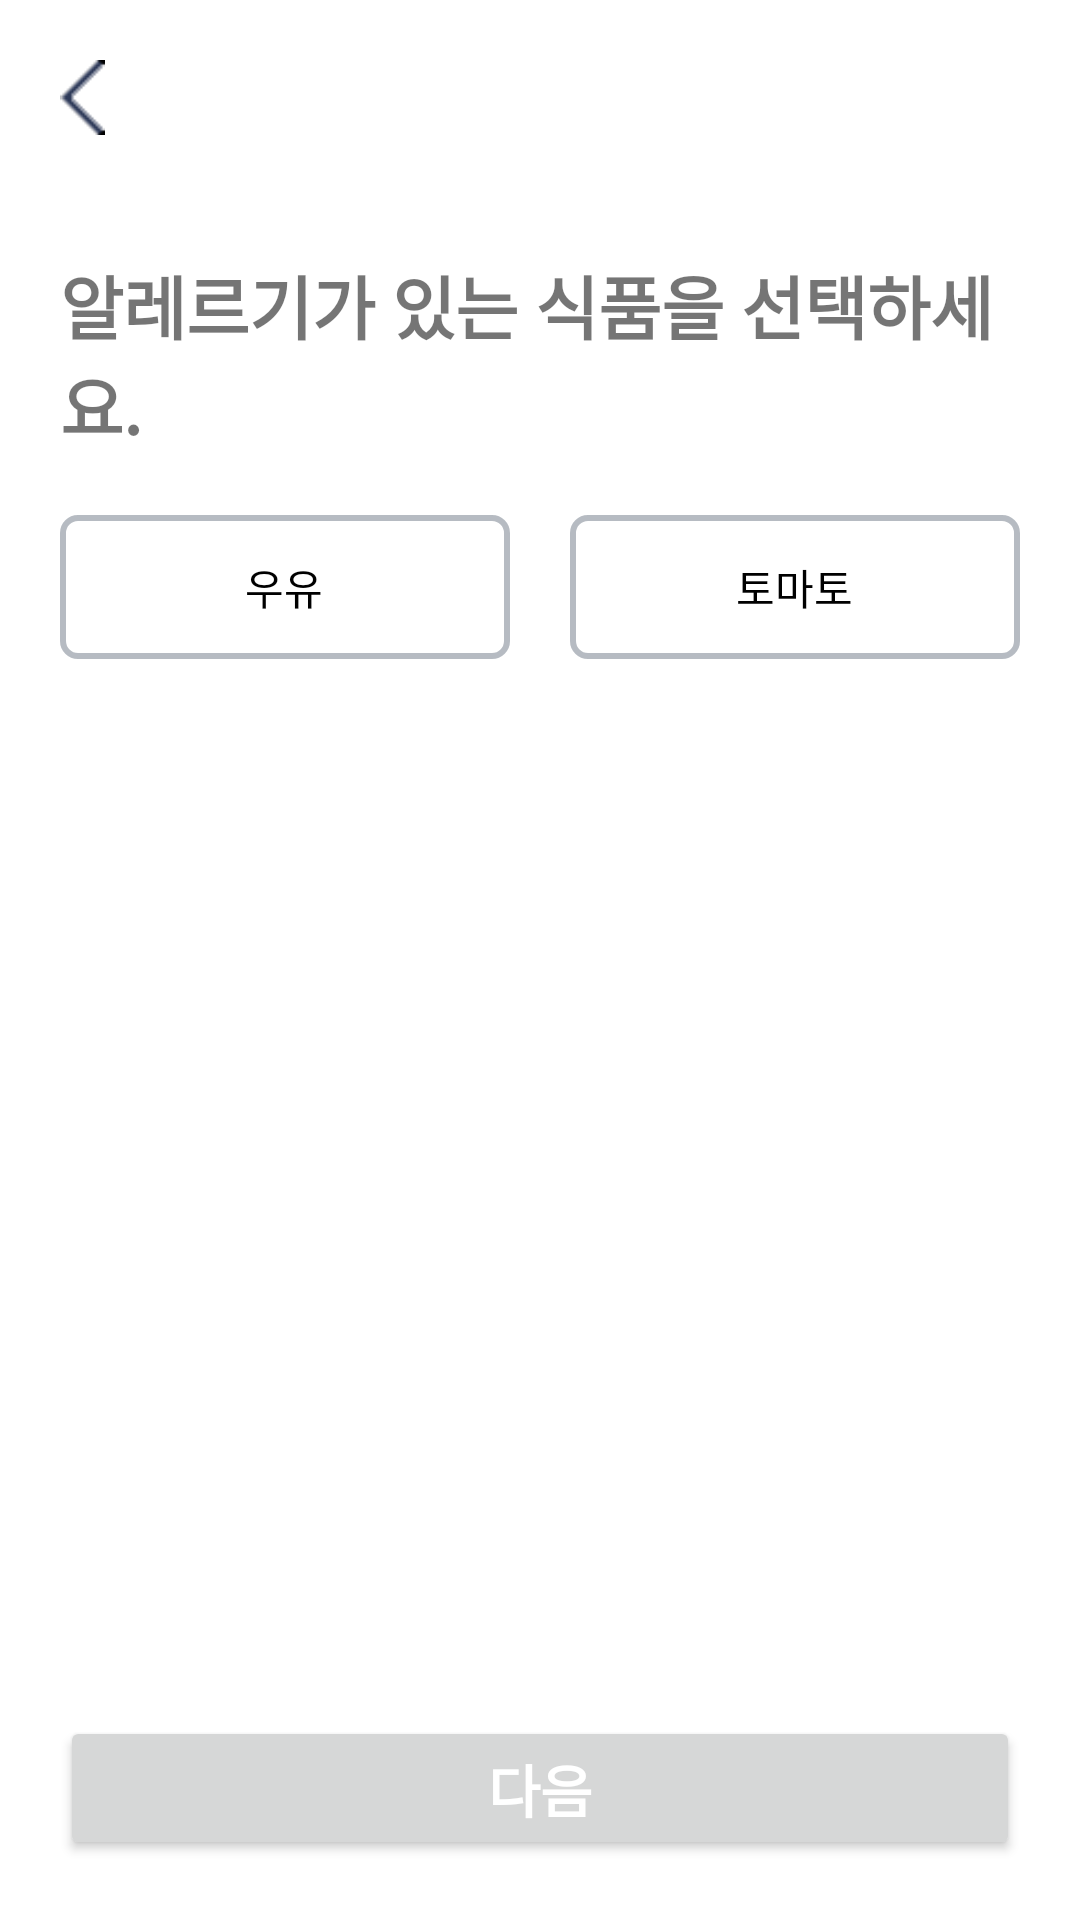

Icons on this 1080 × 1920 Android screen, each with the point to tap as [x,y]:
backarrow: [82,97]
